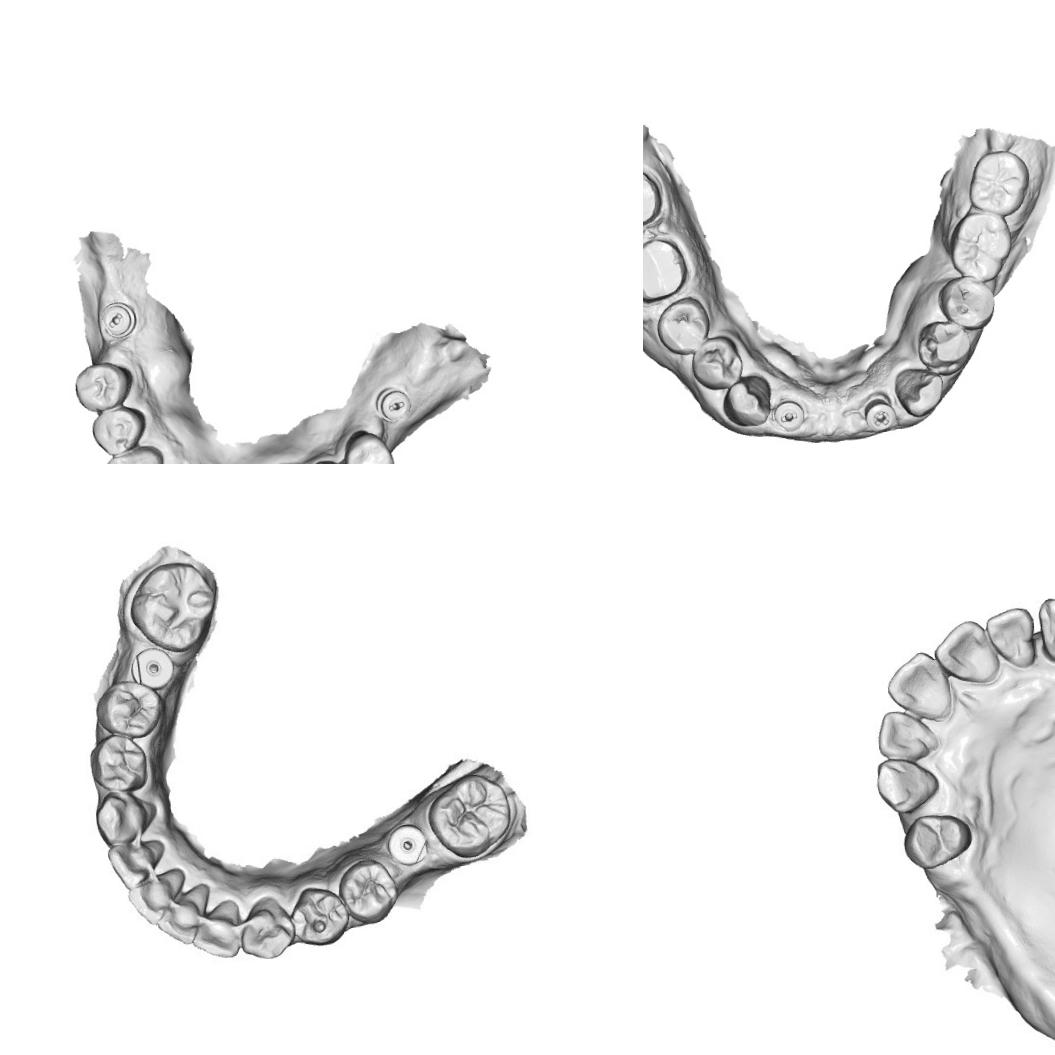canine: (872, 754, 940, 811), (240, 896, 292, 964), (93, 790, 156, 846), (890, 360, 946, 420), (719, 372, 775, 429), (1032, 592, 1055, 662), (101, 441, 167, 464)
crown: (643, 231, 691, 305), (643, 161, 668, 235)
implant: (126, 644, 176, 690), (382, 820, 428, 868)
implant_minus: (96, 298, 138, 342), (374, 382, 414, 426), (772, 395, 810, 436)
implant_plus: (858, 390, 900, 437)
incisor: (934, 614, 1001, 684), (883, 650, 950, 718), (876, 707, 934, 765), (103, 837, 167, 888), (126, 872, 183, 928), (984, 606, 1036, 665), (192, 902, 244, 960), (154, 892, 205, 946)
molar: (127, 556, 218, 654), (424, 771, 515, 860), (944, 207, 1015, 283), (964, 146, 1033, 216)
premolar: (898, 808, 978, 870), (93, 678, 168, 740), (335, 856, 401, 925), (287, 882, 352, 949), (932, 271, 1000, 332), (86, 732, 152, 793), (914, 316, 976, 378), (652, 295, 712, 359), (687, 331, 747, 392), (70, 359, 132, 413), (88, 404, 148, 458), (339, 424, 396, 464)
